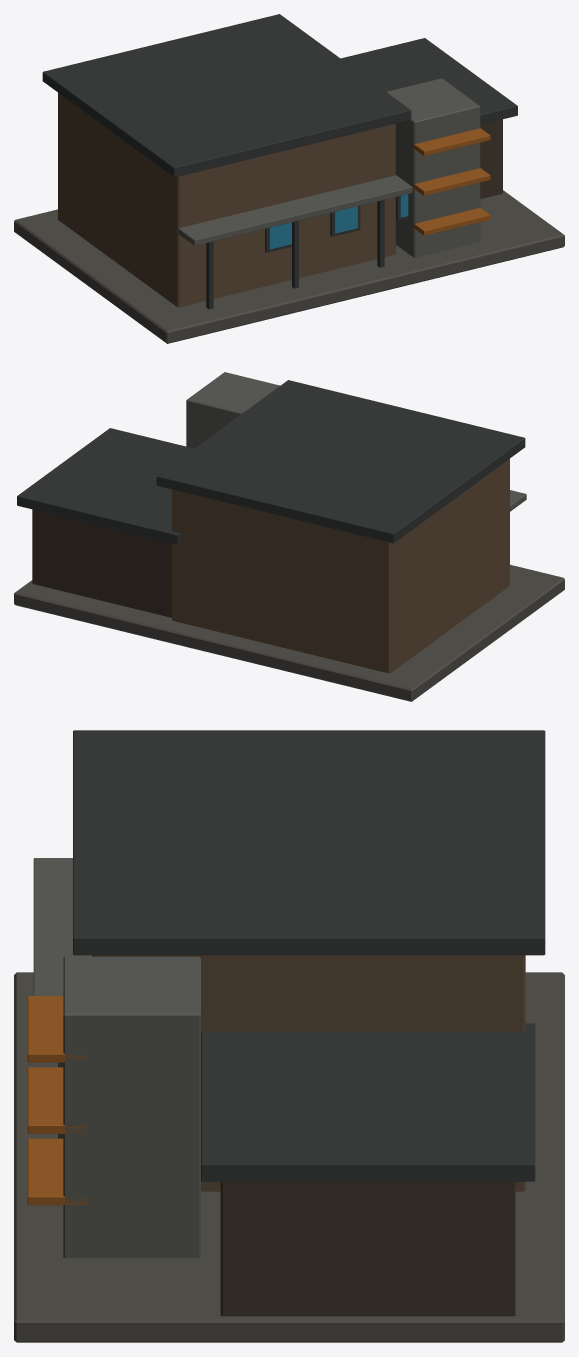
The model's file is BrassWorkerBarracksV2.glb.
3 views of the same model, one above another, from view 1: azimuth 30°, elevation 25°; view 2: azimuth 150°, elevation 25°; view 3: azimuth 270°, elevation 25° (orthographic). The views are drawn at different scales.
Visible parts, largest first — view 1: BrassWorkerBarracksV2; view 2: BrassWorkerBarracksV2; view 3: BrassWorkerBarracksV2.
Boxes of the visible parts, bbox=[...] form: BrassWorkerBarracksV2: bbox=[14, 14, 564, 343]; BrassWorkerBarracksV2: bbox=[14, 372, 564, 701]; BrassWorkerBarracksV2: bbox=[14, 730, 564, 1342].
Size of the model in its own units: 42.5 by 16 by 28.
Materials: 1 (1 with a texture image).
